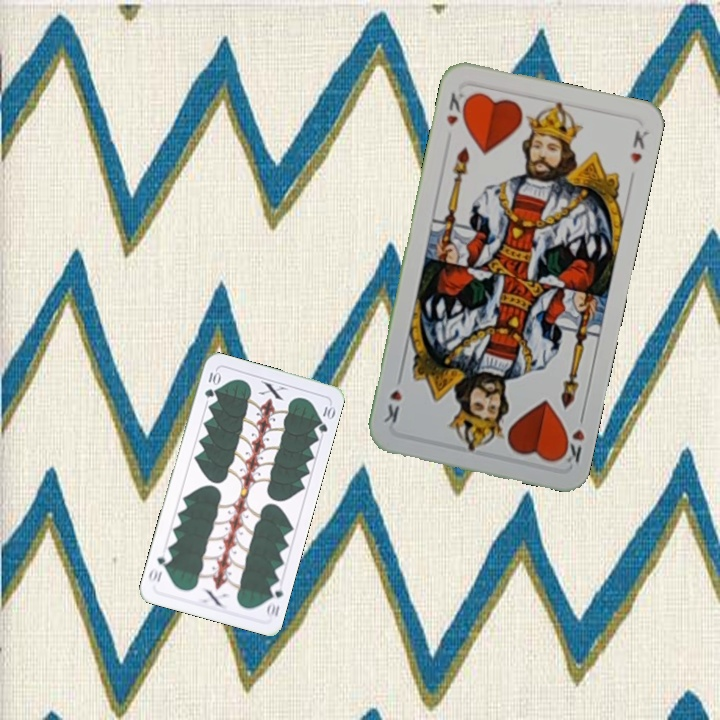G10: (262, 579, 286, 620), (200, 366, 222, 400)
HK: (556, 409, 588, 466), (442, 88, 472, 129)
